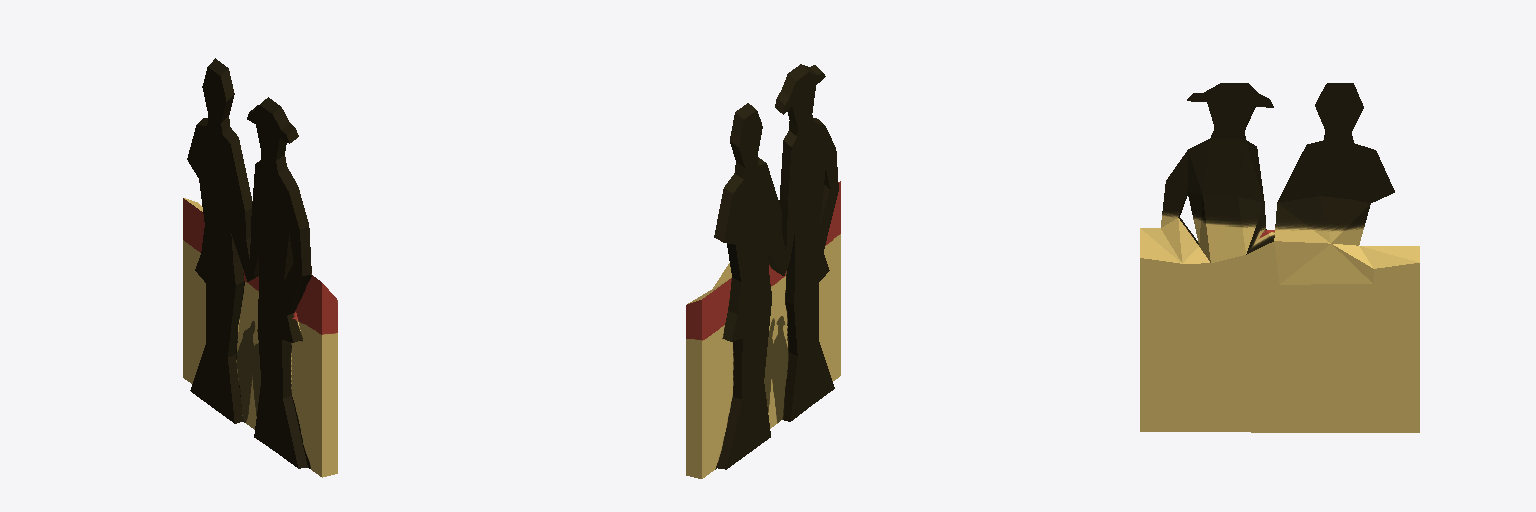
3 views of the same model, side by side, from view 1: azimuth 30°, elevation 25°; view 2: azimuth 150°, elevation 25°; view 3: azimuth 270°, elevation 25° (orthographic).
Visible parts, largest first — view 1: Cube.021_Cube.019; view 2: Cube.021_Cube.019; view 3: Cube.021_Cube.019.
Boxes of the visible parts, x1=… form: Cube.021_Cube.019: x1=183, y1=58, x2=337, y2=477; Cube.021_Cube.019: x1=686, y1=64, x2=840, y2=478; Cube.021_Cube.019: x1=1140, y1=83, x2=1419, y2=432.
Bounding box in the file's own units: 0.1157 × 1.55 × 1.14.
Materials: 1 (1 with a texture image).